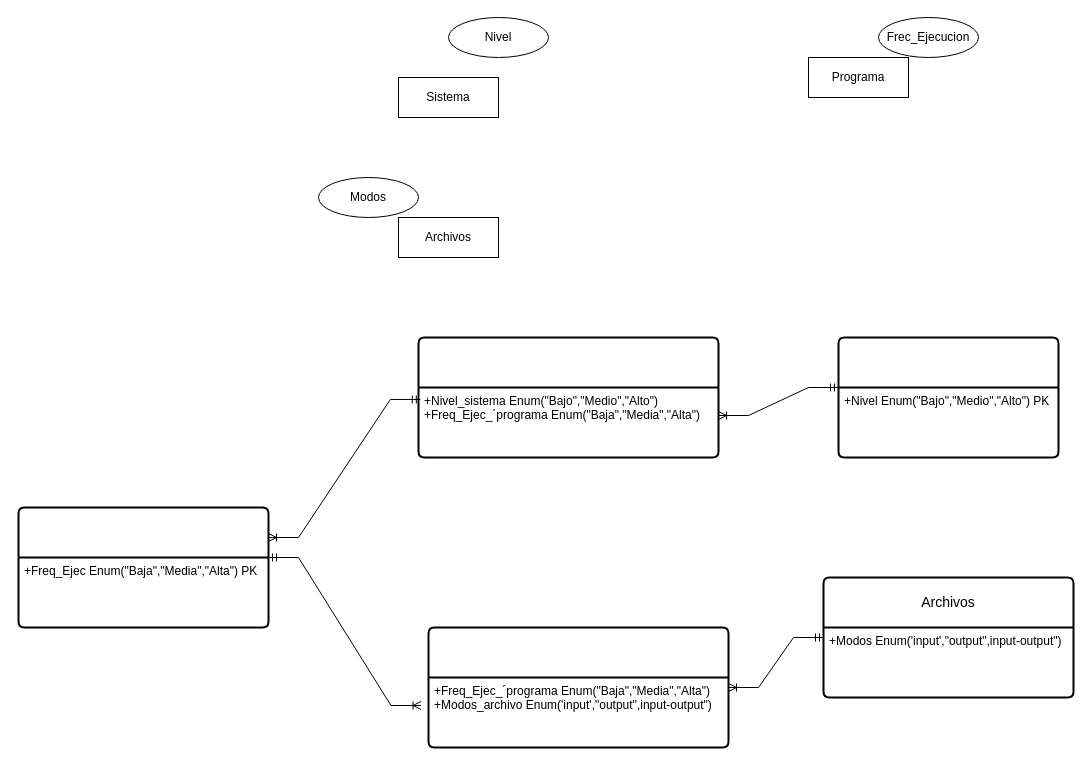
The diagram is 1091 pixels wide and 766 high, and some of its shapes have lost their labels. The box of each missing label's shape, as (x1, y1, x2, y2) in pixels:
Programas: (17, 506, 269, 628)
Programas_Archivos: (427, 626, 729, 748)
Sistemas: (837, 336, 1059, 458)
Sistemas_Programas: (417, 336, 719, 458)
